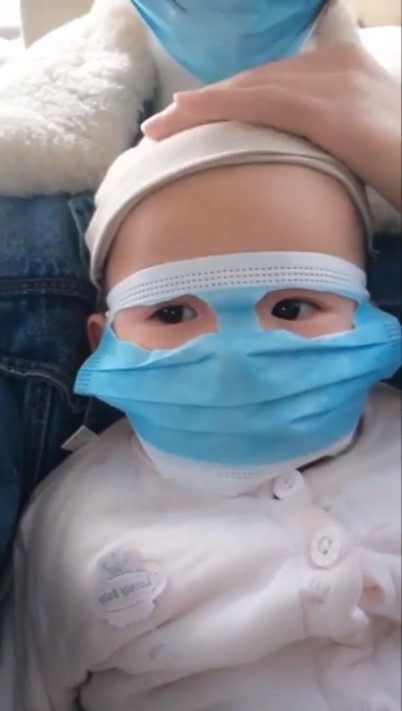face_with_mask: (77, 134, 402, 475)
